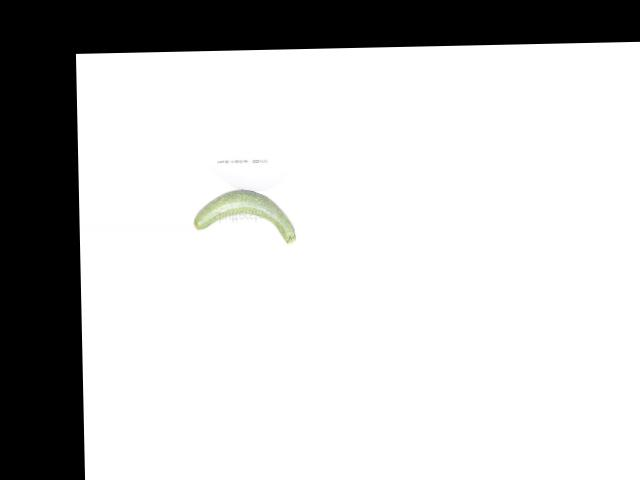cucumber: (193, 188, 296, 245)
